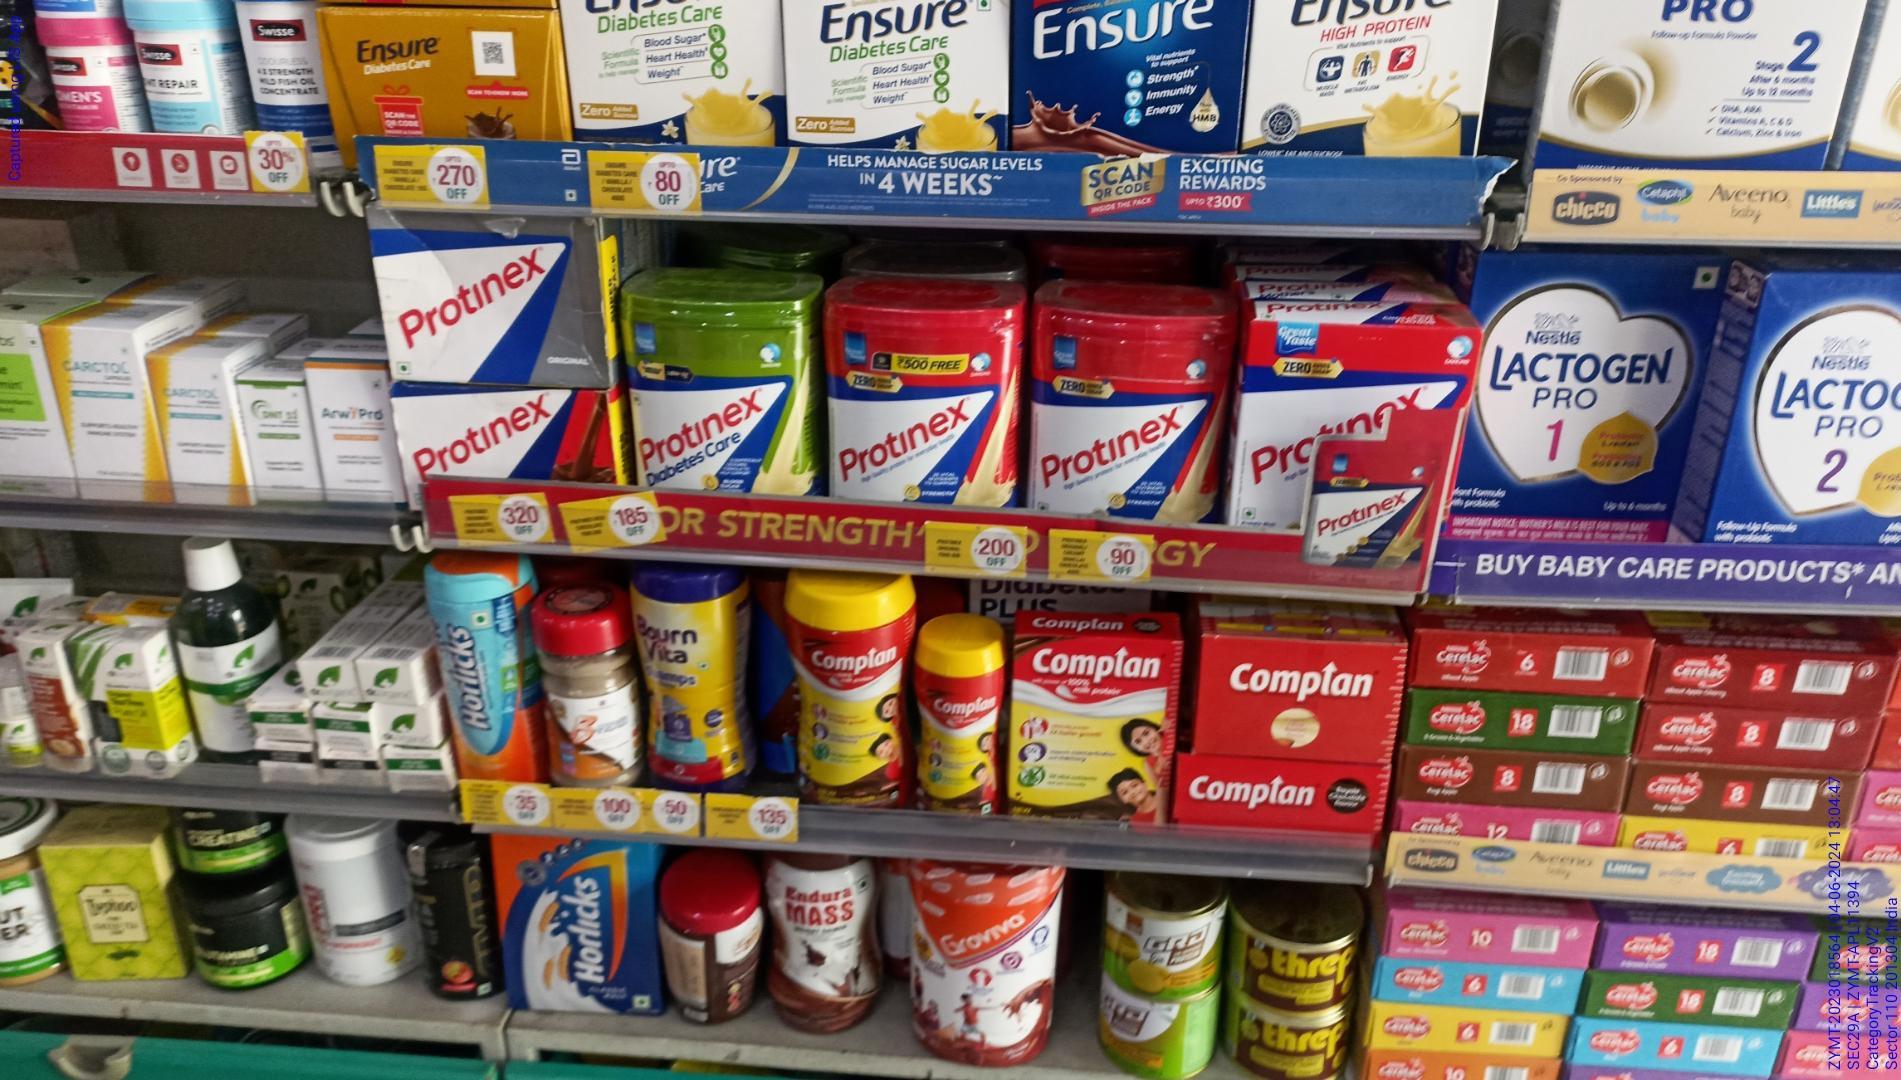BOURN_VITA_CHAMPS_500_G_JAR: (636, 560, 749, 790)
PROTINEX_VANILLA_400_G_JAR: (1029, 306, 1233, 528), (823, 302, 1020, 513)
